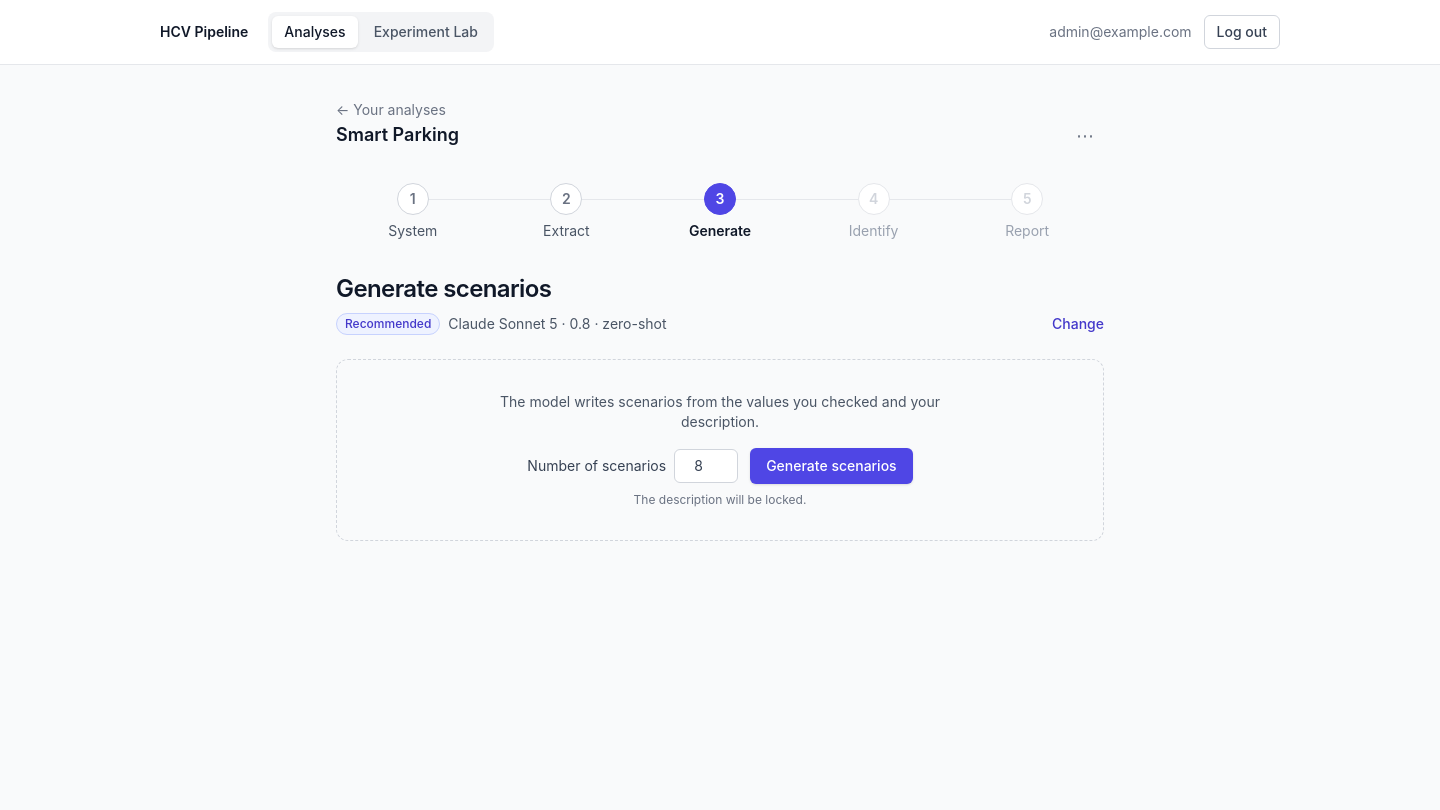
Scenario: Settings panel › refuses a temperature outside 0 to 2
Expected: the number field labelled "Number of scenarios" is shown, [674,449,738,483]
Click the button "Change": (1078,324) [1052,314,1104,334]
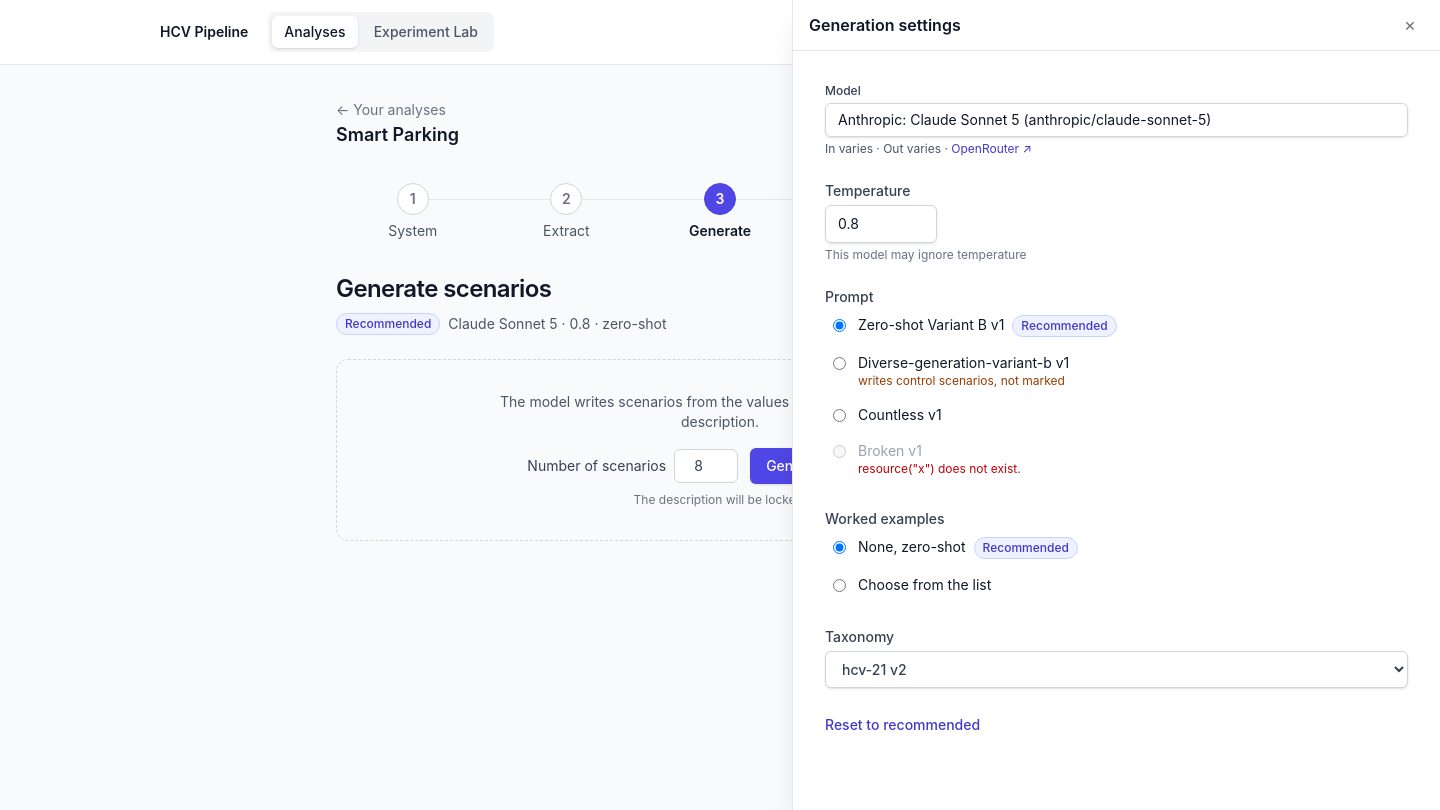
Replace the text in the number field labelled "Temperature" with "3": (881,224) [825,205,937,243]
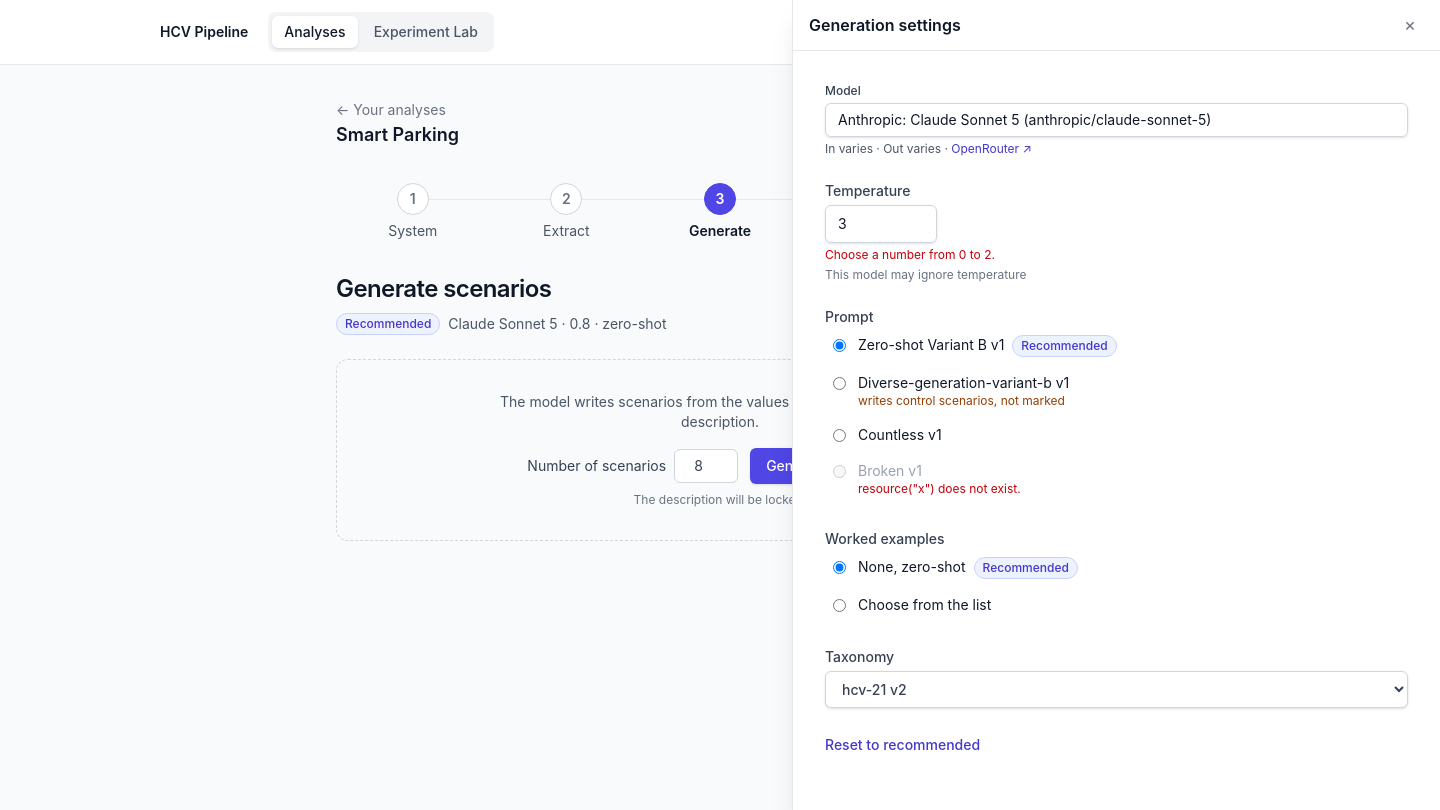
Expected: the text "Choose a number from 0 to 2." is shown, [825,247,995,262]
